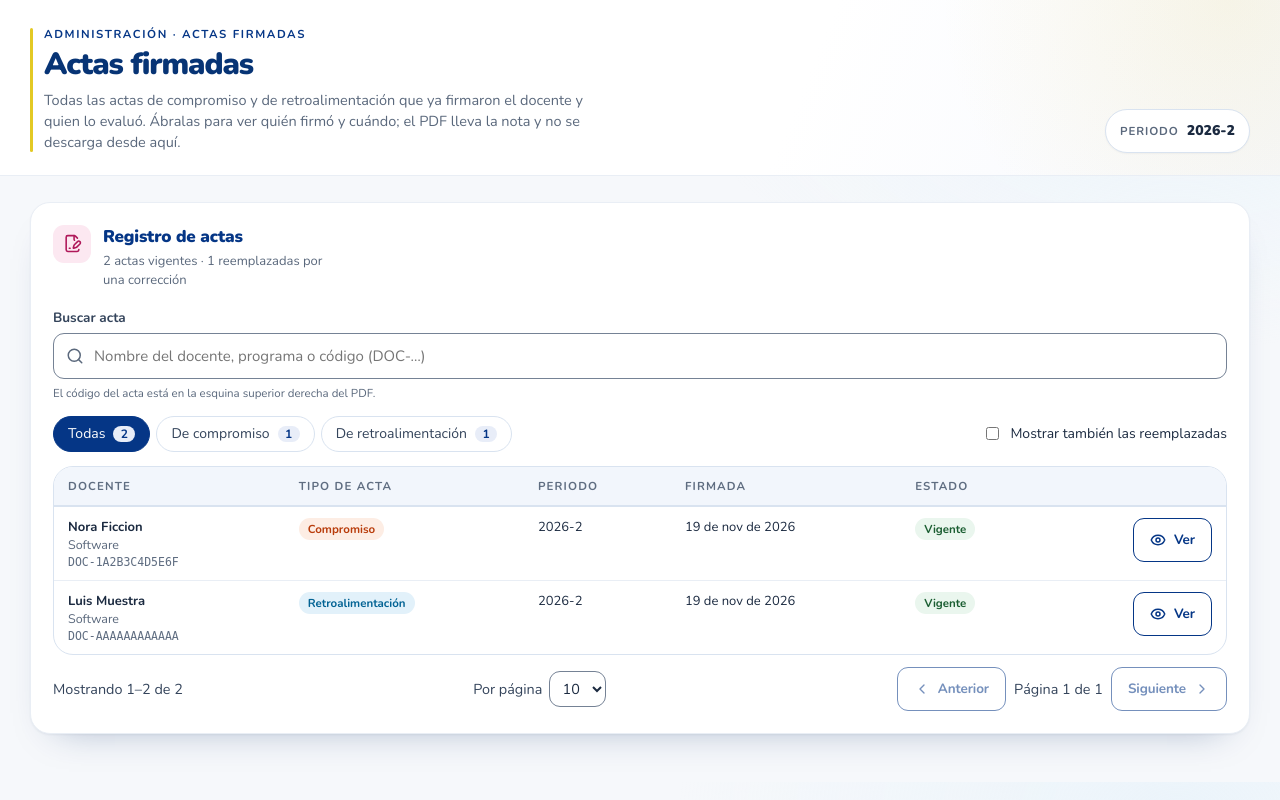
Test: BuscarActa › con el código completo encuentra también un acta reemplazada
The image size is (1280, 800).
Expected: the table is shown, x1=54 y1=467 x2=1226 y2=654
Type "doc-000000000000" into the search field labelled "Buscar acta".
click(640, 356); type("doc-000000000000")  # box x1=53 y1=332 x2=1227 y2=378
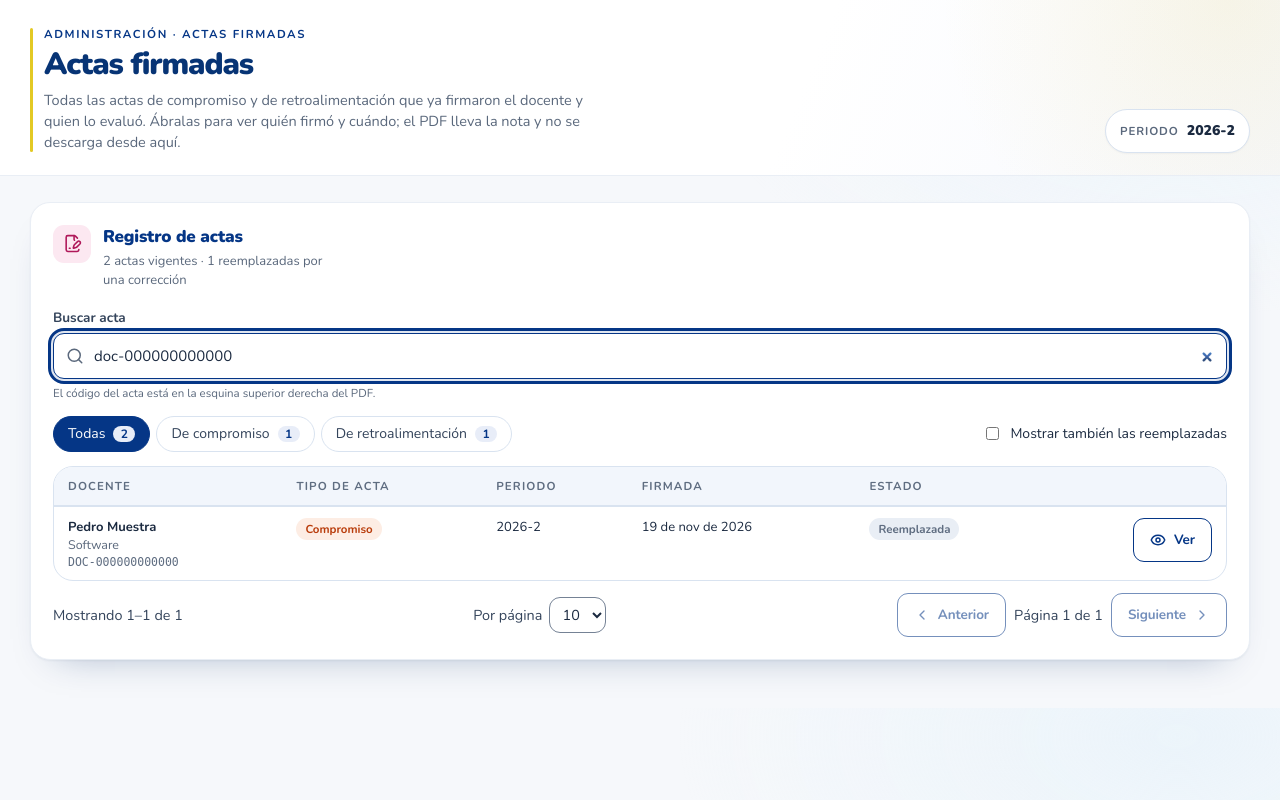
Expected: the text "Pedro Muestra" is shown, x1=68 y1=518 x2=156 y2=536
Expected: the text "Reemplazada" is shown, x1=870 y1=518 x2=960 y2=540
